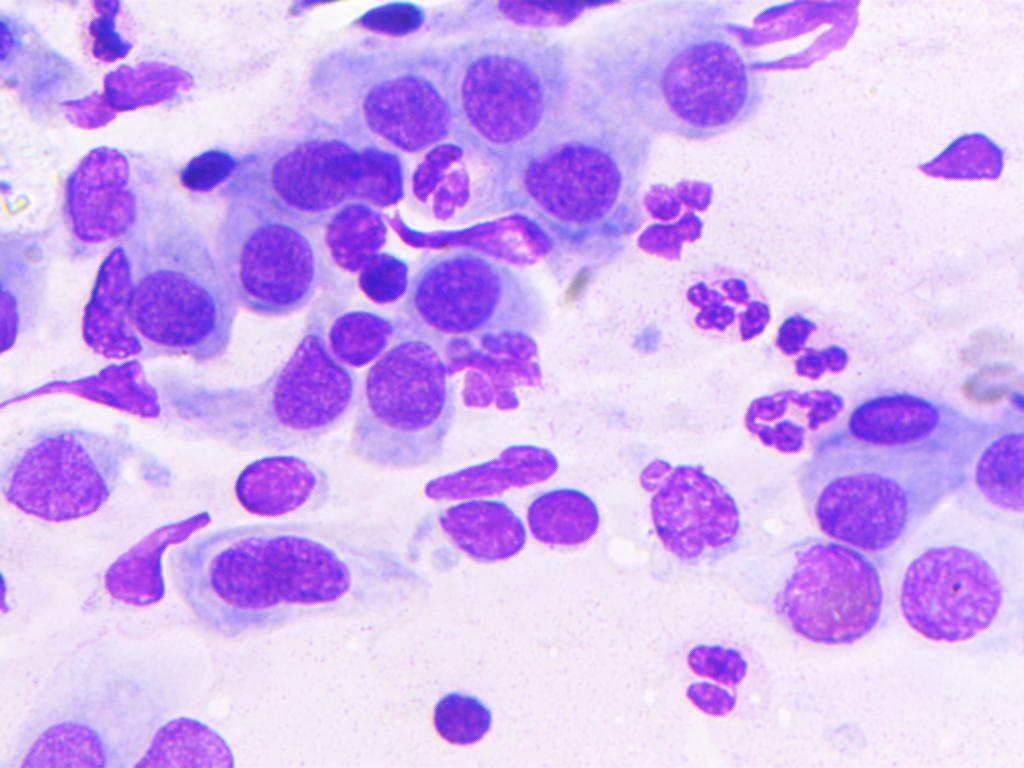artifact: (2, 358, 187, 430), (733, 0, 879, 82), (100, 508, 218, 609), (417, 430, 581, 502), (383, 206, 558, 272), (62, 56, 208, 134), (914, 126, 1019, 210), (79, 246, 143, 367), (0, 187, 38, 218)
epithelial: (202, 528, 434, 633), (622, 446, 755, 582), (610, 31, 763, 144), (756, 537, 892, 649), (793, 462, 977, 543), (0, 423, 117, 533), (904, 541, 1023, 649), (42, 132, 153, 247), (406, 251, 554, 337), (451, 40, 556, 155), (262, 330, 361, 438), (226, 203, 321, 308), (362, 338, 450, 447), (405, 497, 526, 574), (512, 137, 627, 218), (131, 241, 218, 347), (127, 700, 251, 768), (219, 448, 339, 518), (349, 63, 447, 146), (0, 707, 119, 768), (273, 134, 363, 213), (967, 417, 1024, 526), (312, 307, 402, 372), (525, 483, 604, 554), (326, 204, 391, 270), (658, 640, 751, 683), (664, 680, 752, 722)
metaplastic: (838, 364, 979, 456), (417, 683, 536, 753), (170, 132, 261, 207), (344, 0, 432, 47), (359, 253, 410, 314)
neutrophil: (444, 319, 562, 426), (670, 265, 774, 361), (634, 169, 720, 268), (749, 378, 842, 458), (394, 142, 489, 218), (776, 306, 856, 379), (71, 0, 139, 67)
